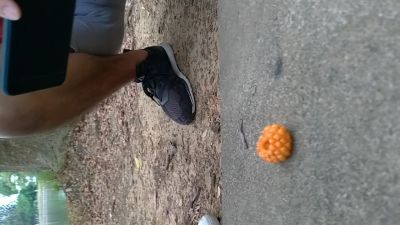eggs: (254, 122, 295, 165)
